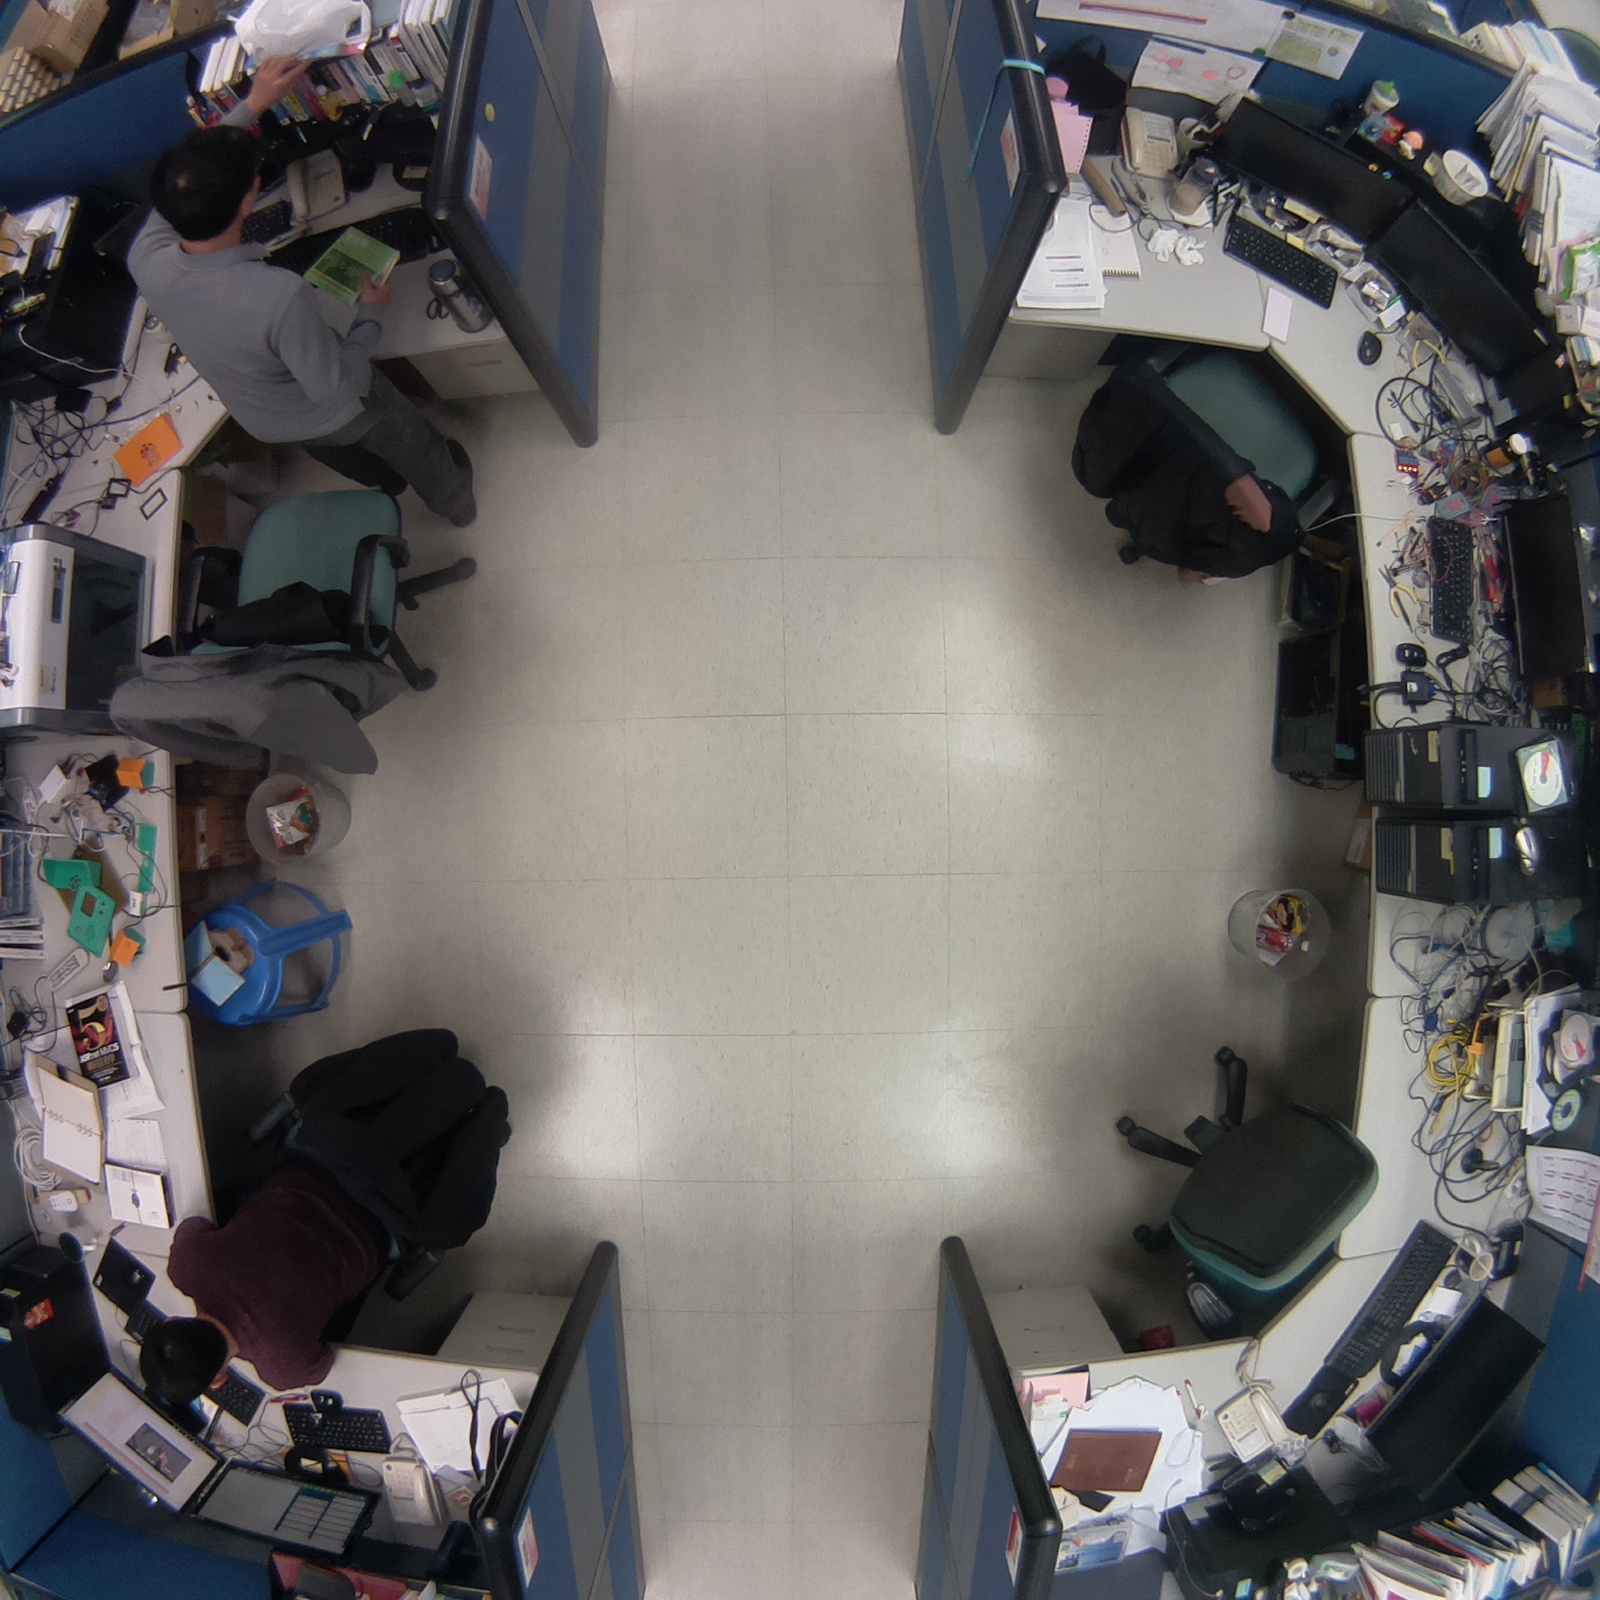chair: (88, 478, 486, 801), (1088, 1027, 1391, 1347), (1063, 314, 1347, 593)
head: (144, 125, 270, 248), (134, 1312, 244, 1414)
sitting: (128, 1003, 529, 1403)
standing: (125, 121, 484, 531)
